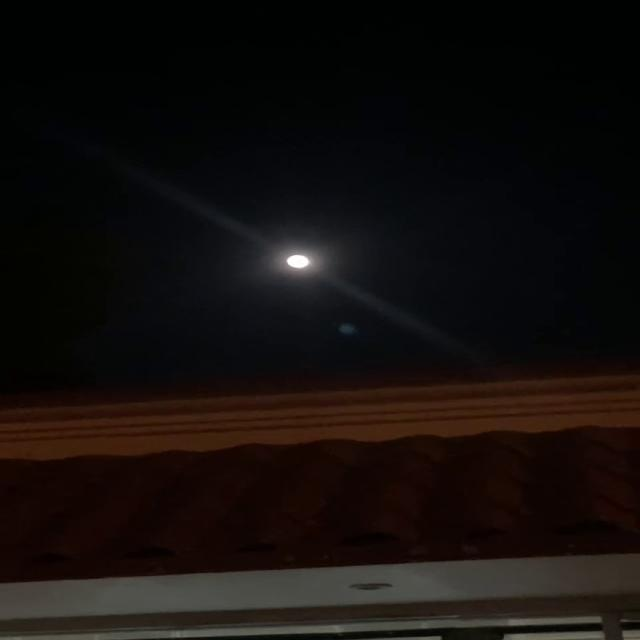moon: (284, 253, 316, 270)
